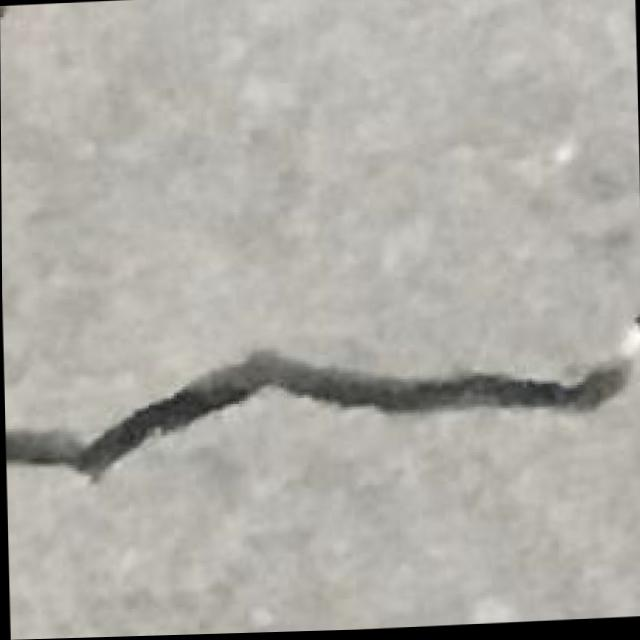Crack: (2, 313, 640, 508)
